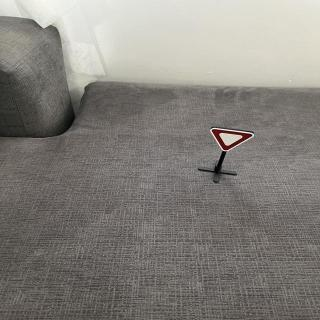sign_yield: (211, 126, 257, 153)
